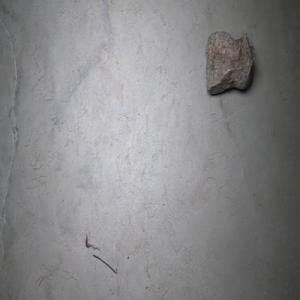Rock: (205, 30, 255, 94)
